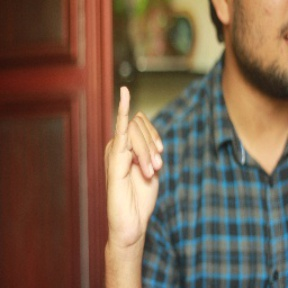I: (95, 85, 169, 221)
